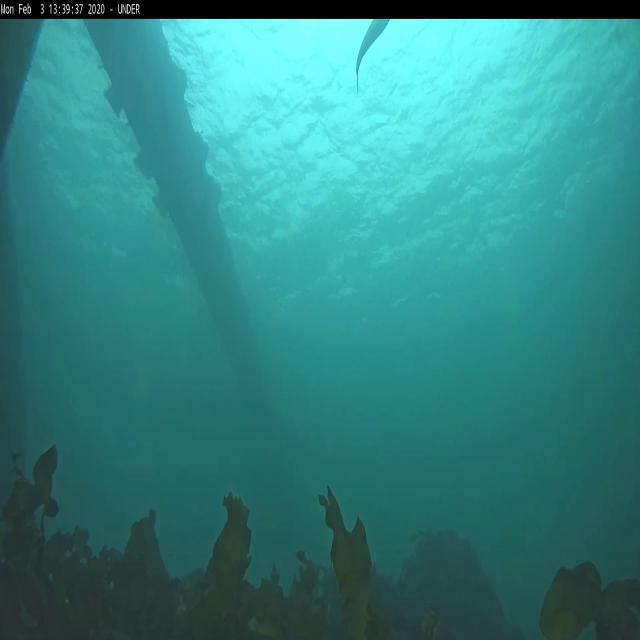fish: (356, 19, 391, 90)
